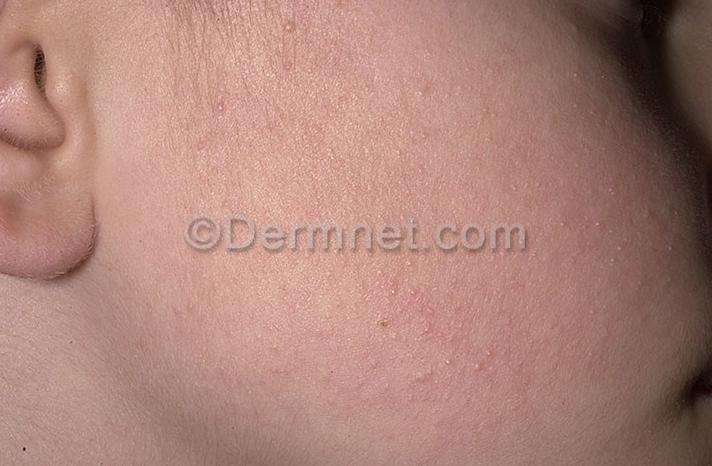edema 1: (332, 165, 682, 424)
eritema 1: (320, 86, 707, 446)
